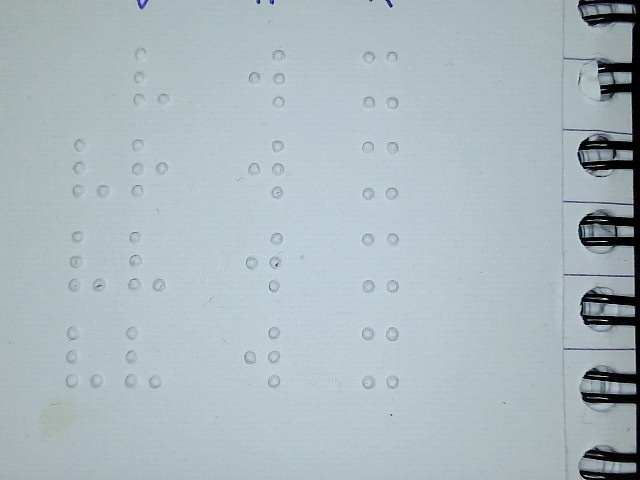V: (71, 136, 111, 199), (123, 325, 163, 388), (65, 325, 105, 388), (131, 45, 171, 107)
W: (242, 324, 283, 389), (247, 47, 287, 109), (246, 137, 286, 199), (244, 230, 284, 292)
X: (359, 324, 400, 389), (360, 49, 400, 111), (360, 138, 400, 200), (361, 231, 401, 293)
